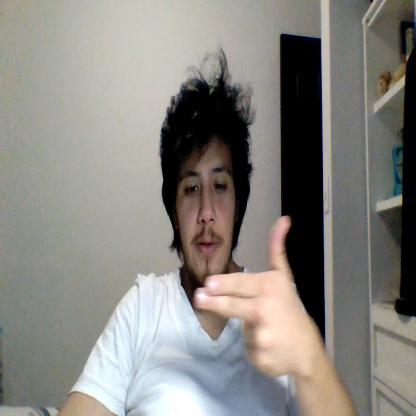H: (194, 215, 303, 378)
